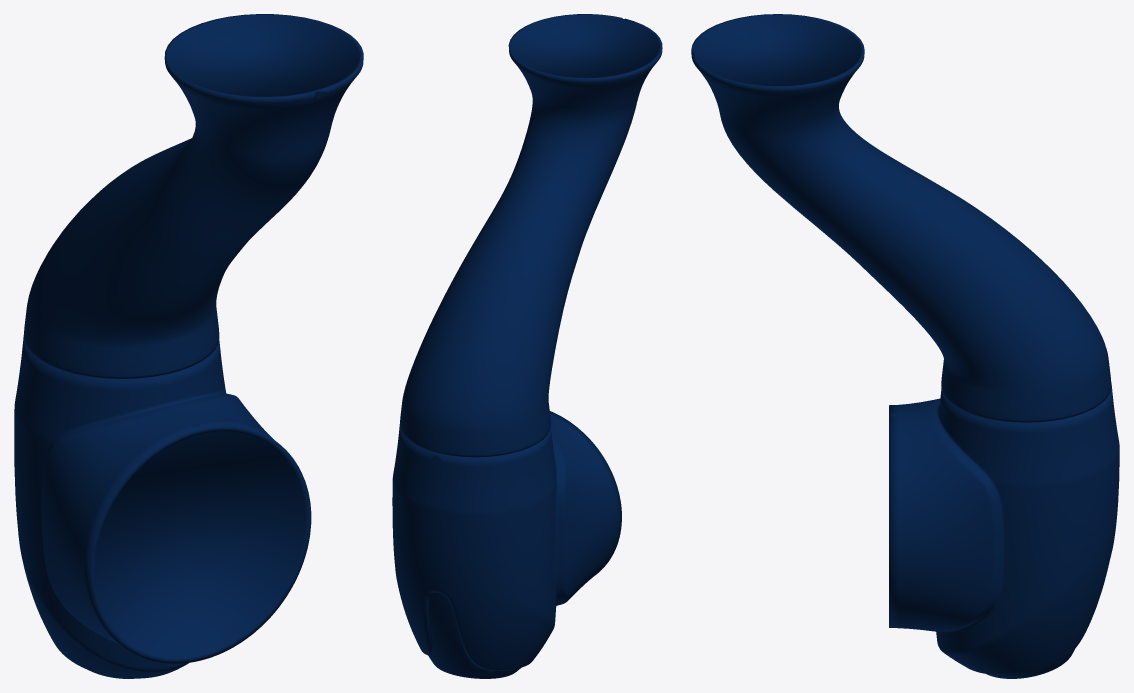
File: Link_3_Forearm.dae
3 renders of one model, left to right at view 1: azimuth 30°, elevation 25°; view 2: azimuth 150°, elevation 25°; view 3: azimuth 270°, elevation 25°, orthographic. The views are drawn at different scales.
Bounding box in the file's own units: 0.131 × 0.2519 × 0.399.
